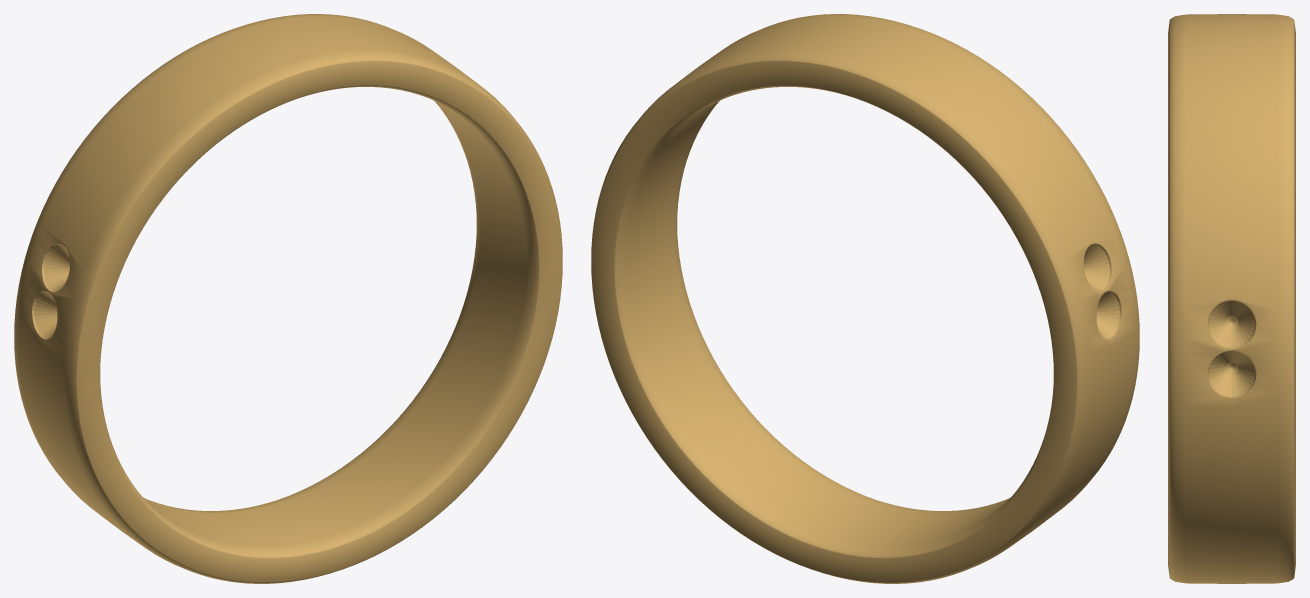
The model's file is wide-channel-multi.glb.
The picture shows the model from 3 angles, left to right: view 1: azimuth 30°, elevation 25°; view 2: azimuth 150°, elevation 25°; view 3: azimuth 270°, elevation 25°; orthographic projection.
Visible parts, largest first — view 1: Band; view 2: Band; view 3: Band.
Boxes of the visible parts, x1,y1,x2,y2 form: Band: [14, 14, 562, 583]; Band: [591, 14, 1139, 583]; Band: [1168, 14, 1295, 583].
Bounding box in the file's own units: 19.6 × 19.6 × 4.4.
